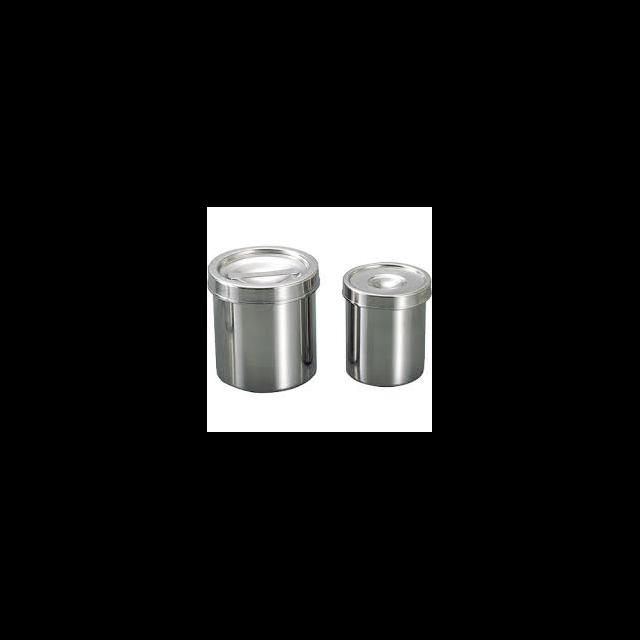metal: (208, 245, 320, 392), (342, 263, 432, 387)
